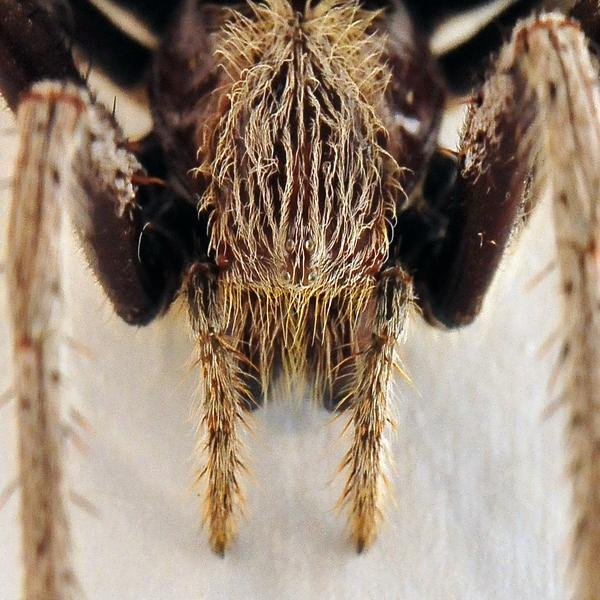Garden_Orb_Weaver_Spider: (1, 3, 600, 596)
